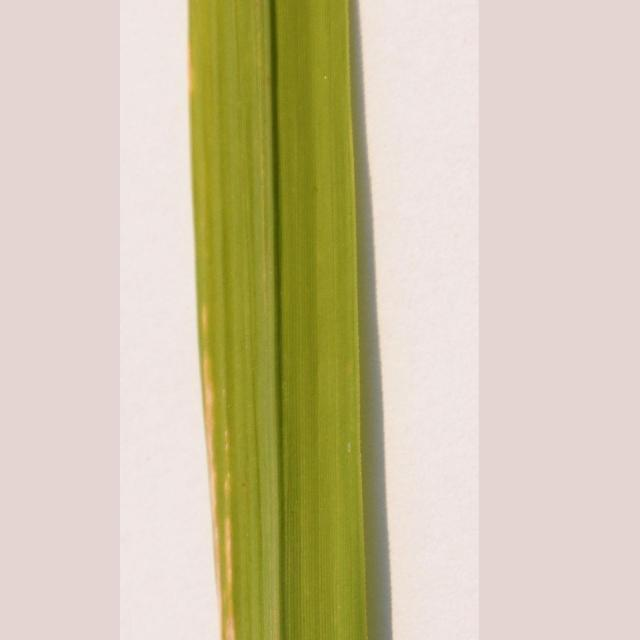Bacterial leaf blight: (194, 297, 243, 640)
